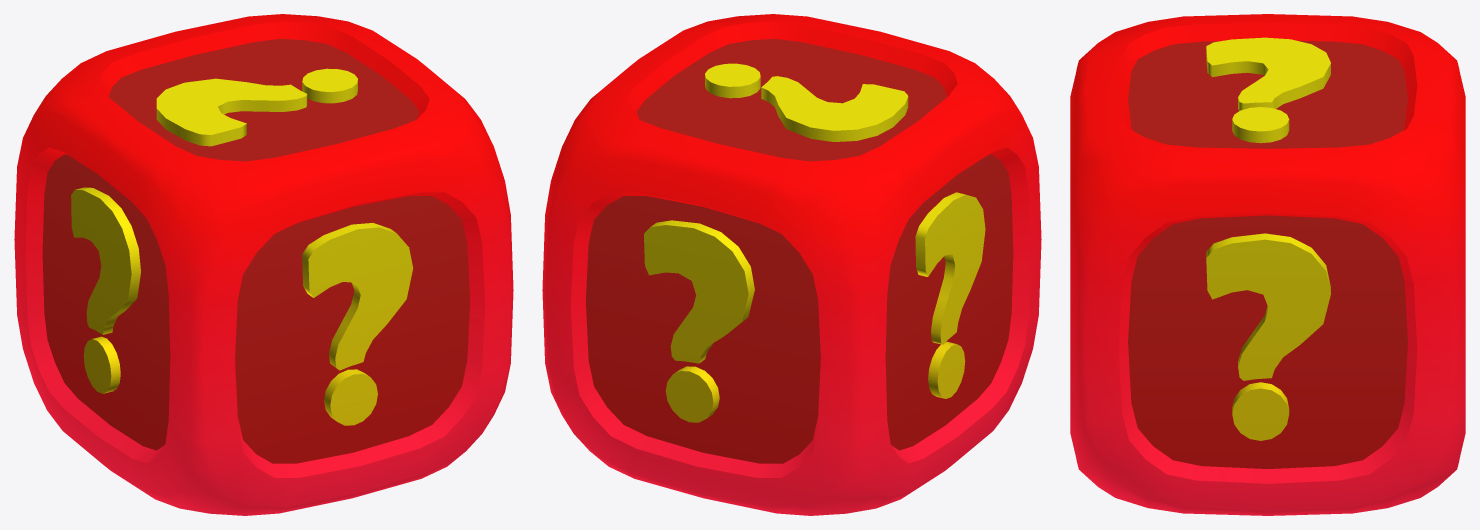
The model's file is Dice_01.glb.
The picture shows the model from 3 angles, left to right: view 1: azimuth 30°, elevation 25°; view 2: azimuth 150°, elevation 25°; view 3: azimuth 270°, elevation 25°; orthographic projection. The views are drawn at different scales.
Visible parts, largest first — view 1: Dice_01; view 2: Dice_01; view 3: Dice_01.
Part boxes in pixels (<box>): Dice_01: <box>14,14,513,515</box>; Dice_01: <box>542,14,1041,515</box>; Dice_01: <box>1070,14,1465,515</box>.
Bounding box in the file's own units: 0.9614 × 0.9614 × 0.9614.
2 materials, 2 textured.
